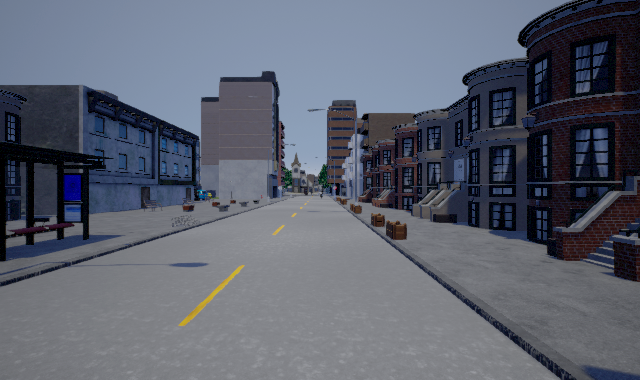traffic_sign: (333, 186, 337, 190)
